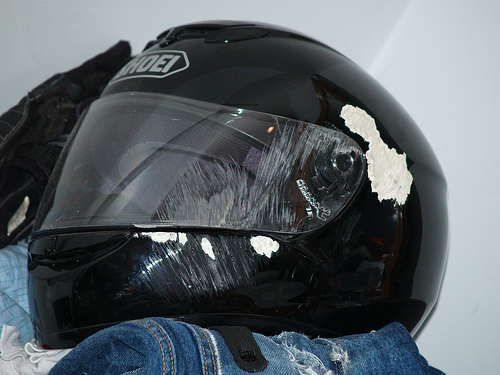helmet: (60, 22, 437, 320)
